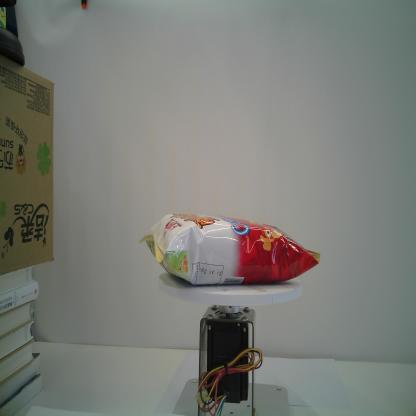Puffed Food: (137, 211, 322, 287)
